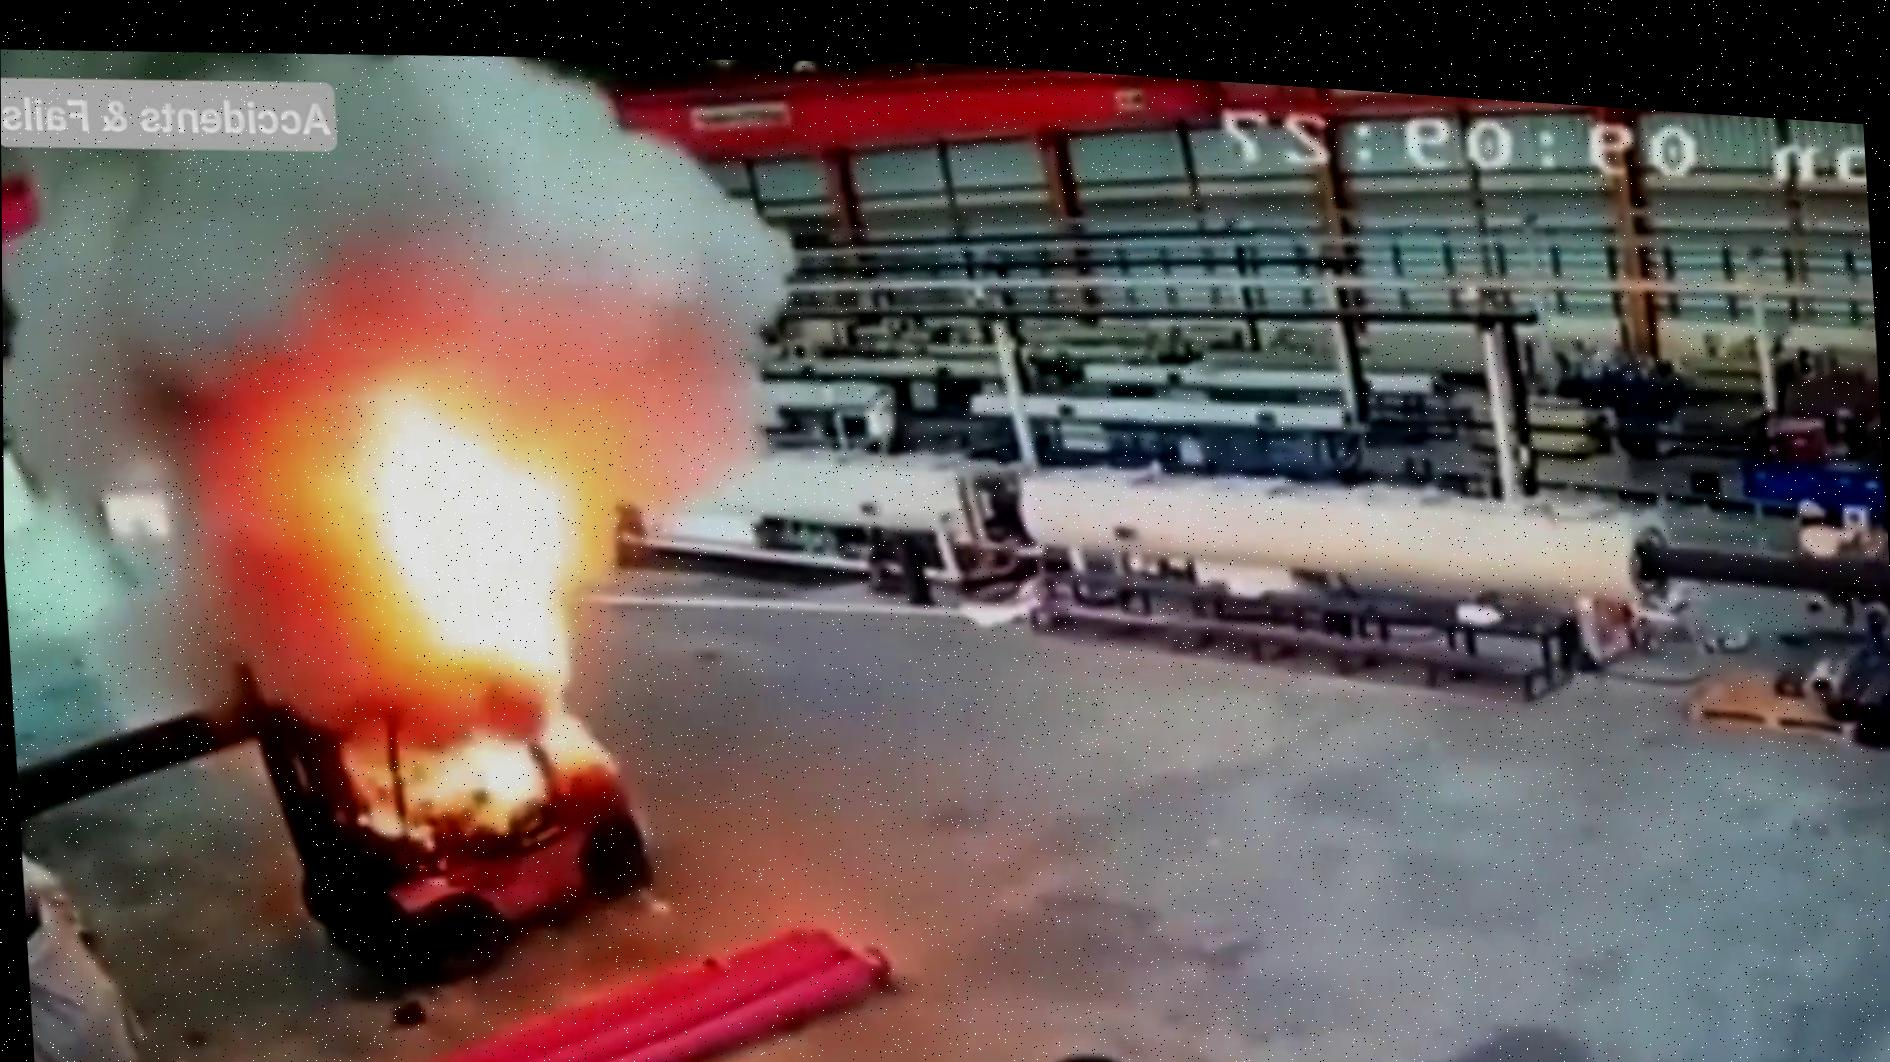fire: (190, 43, 772, 956)
